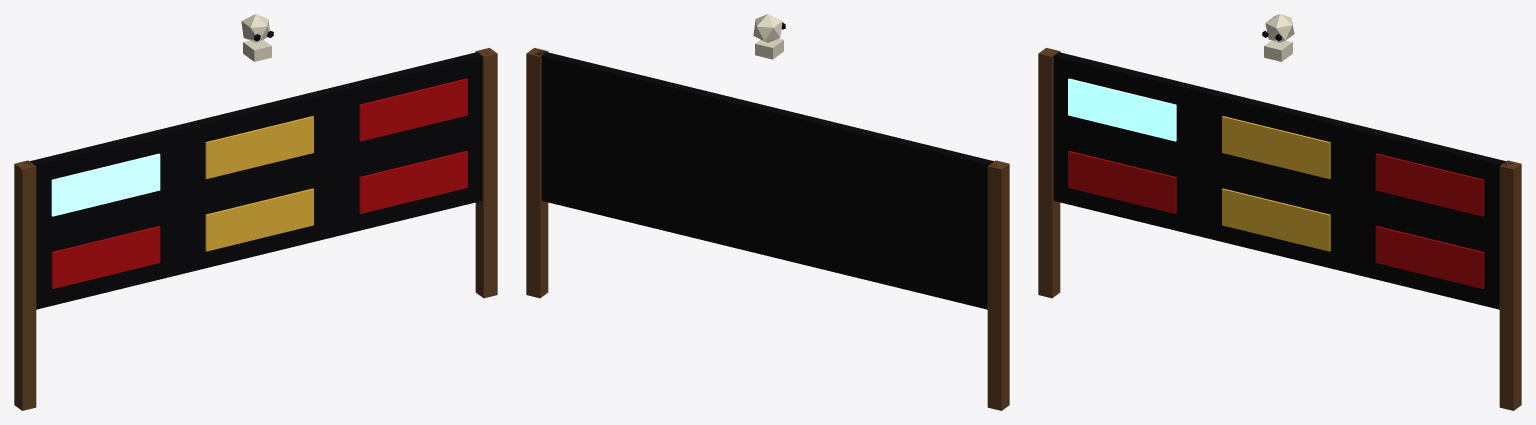
File: Prop_OR_OddsBoard_03.glb
3 renders of one model, left to right at view 1: azimuth 30°, elevation 25°; view 2: azimuth 150°, elevation 25°; view 3: azimuth 330°, elevation 25°, orthographic.
Parts seen in each view (by area): view 1: Prop_OR_OddsBoard_03; view 2: Prop_OR_OddsBoard_03; view 3: Prop_OR_OddsBoard_03.
Boxes of the visible parts, x1,y1,x2,y2 form: Prop_OR_OddsBoard_03: (14, 14, 497, 410); Prop_OR_OddsBoard_03: (526, 14, 1009, 410); Prop_OR_OddsBoard_03: (1038, 14, 1521, 410).
Bounding box in the file's own units: 5.15 × 3.48 × 0.3057.
